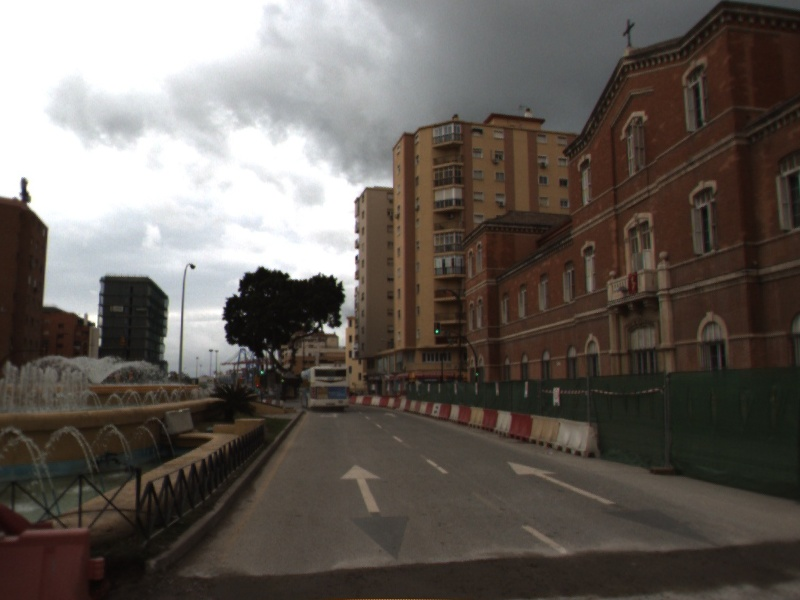STRAIGHT: (506, 460, 620, 506), (338, 462, 385, 514)
